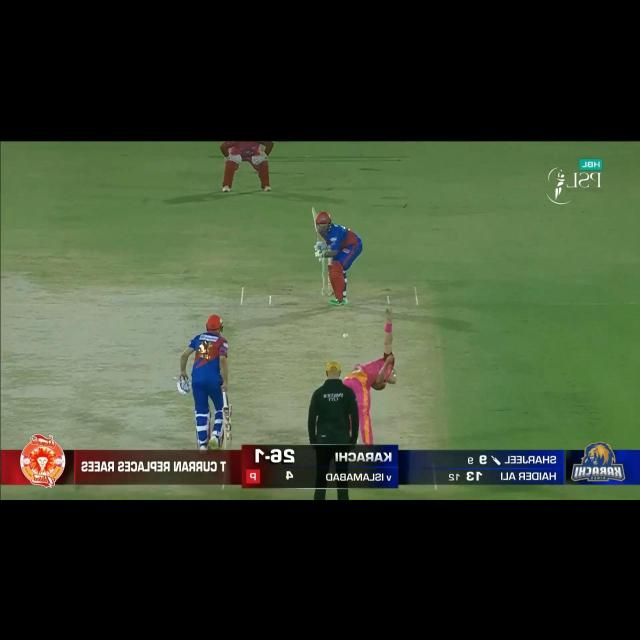bat: (221, 404, 235, 448), (312, 204, 323, 246)
toe: (308, 203, 321, 218)
